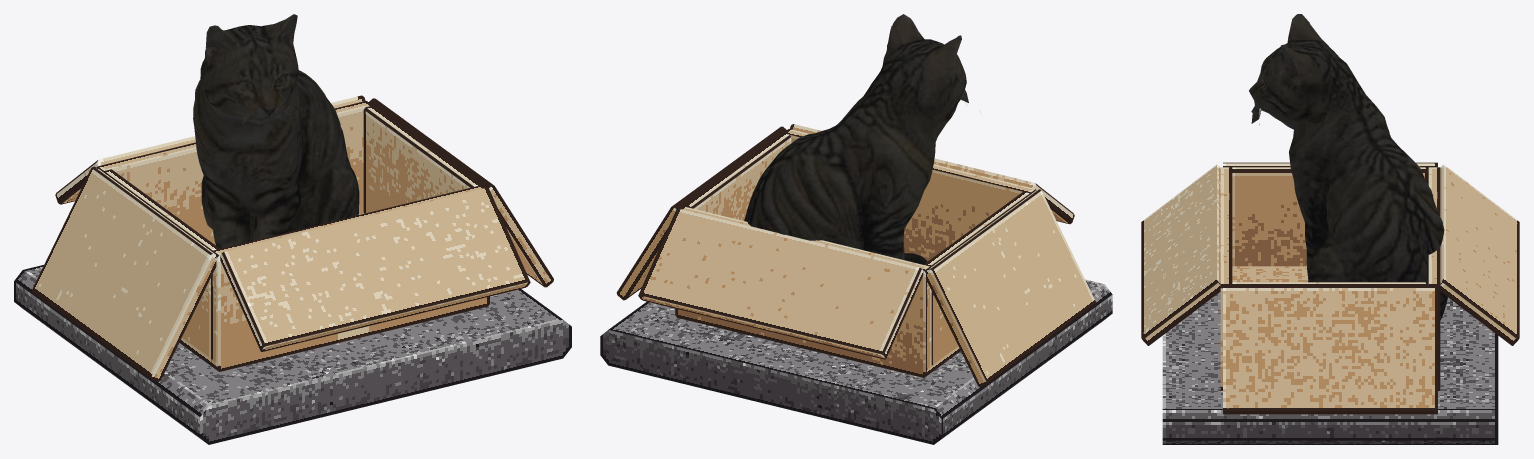
3 views of the same model, side by side, from view 1: azimuth 30°, elevation 25°; view 2: azimuth 150°, elevation 25°; view 3: azimuth 270°, elevation 25° (orthographic). The views are drawn at different scales.
Visible parts, largest first — view 1: base, cb_ff, model_cat, cb_fr, cb_front, cb_left, cb_back, cb_fl, cb_right, cb_fb; view 2: base, model_cat, cb_fb, cb_fr, cb_front, cb_back, cb_left, cb_fl, cb_right, cb_ff; view 3: model_cat, cb_fl, base, cb_ff, cb_fb, cb_right, cb_front, cb_floor, cb_back, cb_left, cb_fr.
Part boxes in pixels (box(x1,y1,x2,y2)): base: box(14, 265, 571, 444); cb_ff: box(220, 187, 530, 351); model_cat: box(193, 14, 359, 248); cb_fr: box(32, 166, 217, 381); cb_front: box(211, 185, 489, 371); cb_left: box(363, 105, 481, 213); cb_back: box(97, 101, 372, 245); cb_fl: box(369, 98, 553, 287); cb_right: box(104, 169, 219, 365); cb_fb: box(55, 95, 365, 204); base: box(600, 279, 1112, 444); model_cat: box(744, 14, 968, 264); cb_fb: box(638, 208, 923, 359); cb_fr: box(926, 189, 1096, 387); cb_front: box(783, 129, 1036, 261); cb_back: box(675, 206, 931, 377); cb_left: box(683, 133, 791, 220); cb_fl: box(616, 126, 786, 300); cb_right: box(923, 192, 1030, 372); cb_ff: box(790, 124, 1074, 224); model_cat: box(1249, 14, 1447, 320); cb_fl: box(1223, 286, 1437, 414); base: box(1162, 291, 1498, 444); cb_ff: box(1141, 164, 1220, 345); cb_fb: box(1440, 164, 1519, 345); cb_right: box(1232, 167, 1428, 266); cb_front: box(1220, 167, 1232, 390); cb_floor: box(1220, 266, 1440, 389); cb_back: box(1428, 167, 1440, 390); cb_left: box(1232, 282, 1428, 286); cb_fr: box(1223, 162, 1437, 167).
Size of the model in its own units: 32.53 by 26.6 by 29.3.
3 materials, 3 textured.
